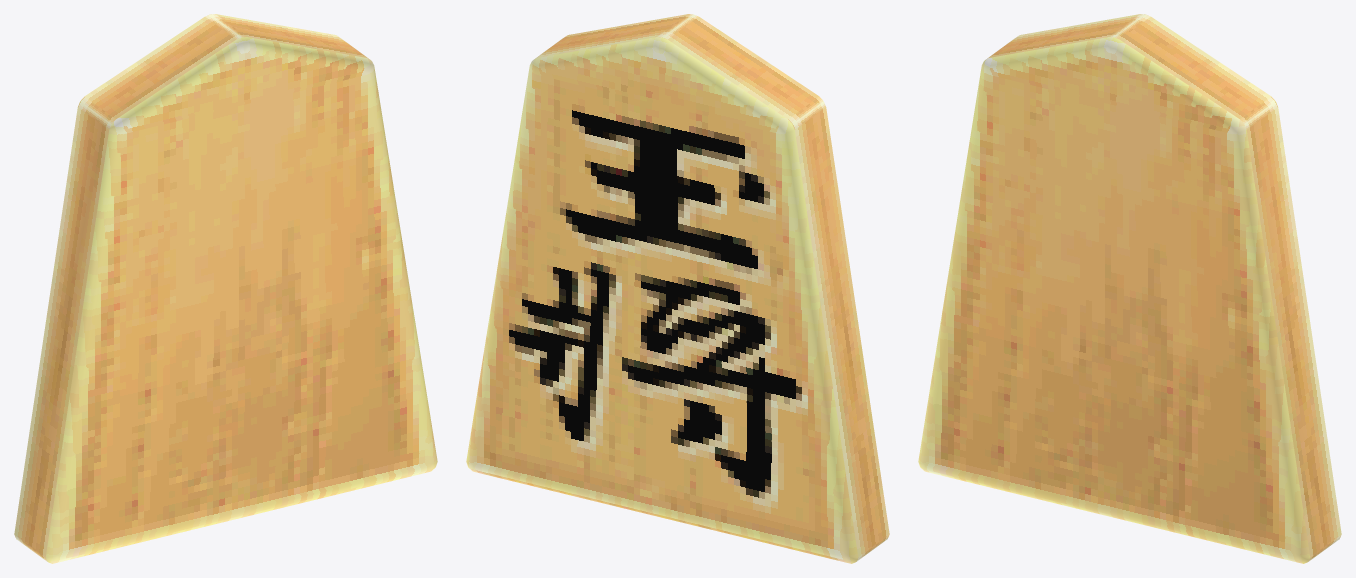
The model's file is ps2_save-icons_aishougi2003.glb.
3 views of the same model, side by side, from view 1: azimuth 30°, elevation 25°; view 2: azimuth 150°, elevation 25°; view 3: azimuth 330°, elevation 25° (orthographic).
Visible parts, largest first — view 1: Jiangqi.ico; view 2: Jiangqi.ico; view 3: Jiangqi.ico.
Boxes of the visible parts, left/top/right/bottom form: Jiangqi.ico: left=14, top=14, right=437, bottom=563; Jiangqi.ico: left=466, top=14, right=889, bottom=563; Jiangqi.ico: left=918, top=14, right=1341, bottom=563.
Size of the model in its own units: 1.49 by 1.74 by 0.25.
1 material, 1 textured.
